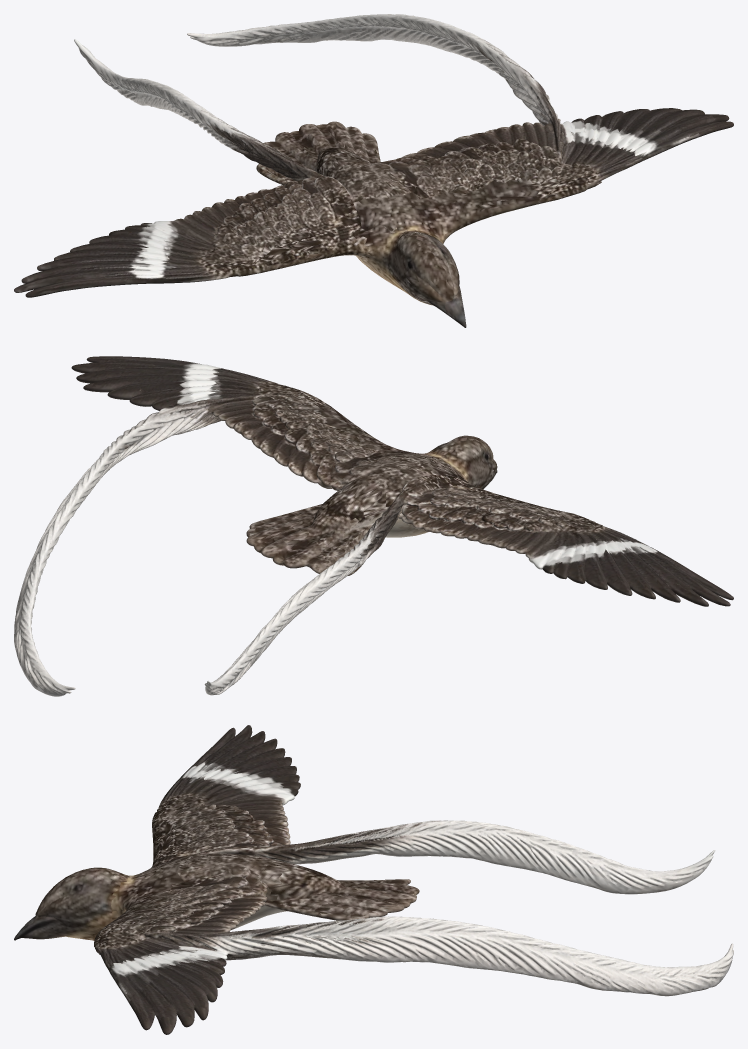
Rendered from Caprimulgus_vexillarius.glb.
The picture shows the model from 3 angles, top to bottom: view 1: azimuth 30°, elevation 25°; view 2: azimuth 150°, elevation 25°; view 3: azimuth 270°, elevation 25°; orthographic projection. The views are drawn at different scales.
Visible parts, largest first — view 1: orient; view 2: orient; view 3: orient.
Part boxes in pixels (x1=…): orient: x1=14, y1=14, x2=733, y2=327; orient: x1=14, y1=356, x2=733, y2=696; orient: x1=14, y1=725, x2=733, y2=1034.
Bounding box in the file's own units: 0.5 × 0.0816 × 0.4397.
Materials: 1 (1 with a texture image).
